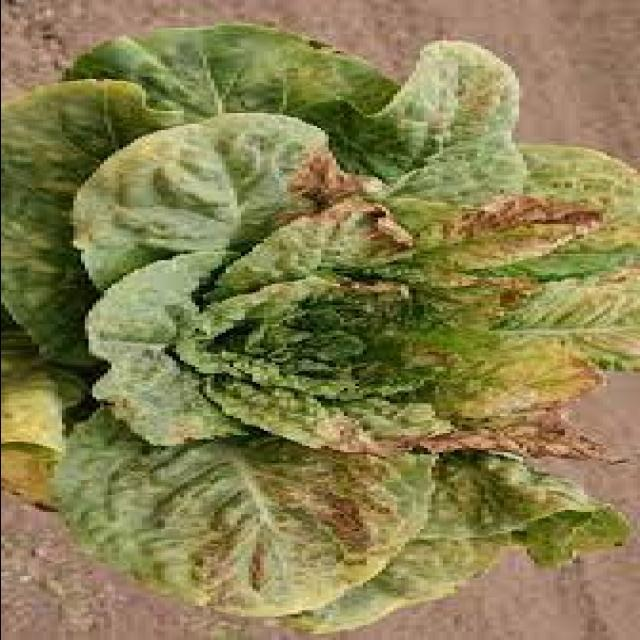Lettuce: (0, 16, 640, 627)
